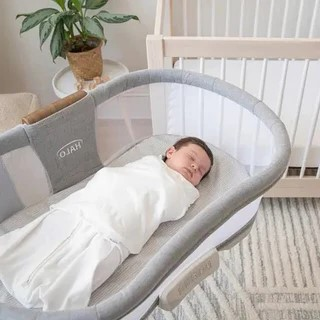baby: (0, 137, 212, 309)
crib: (0, 70, 289, 319), (147, 0, 319, 196)
